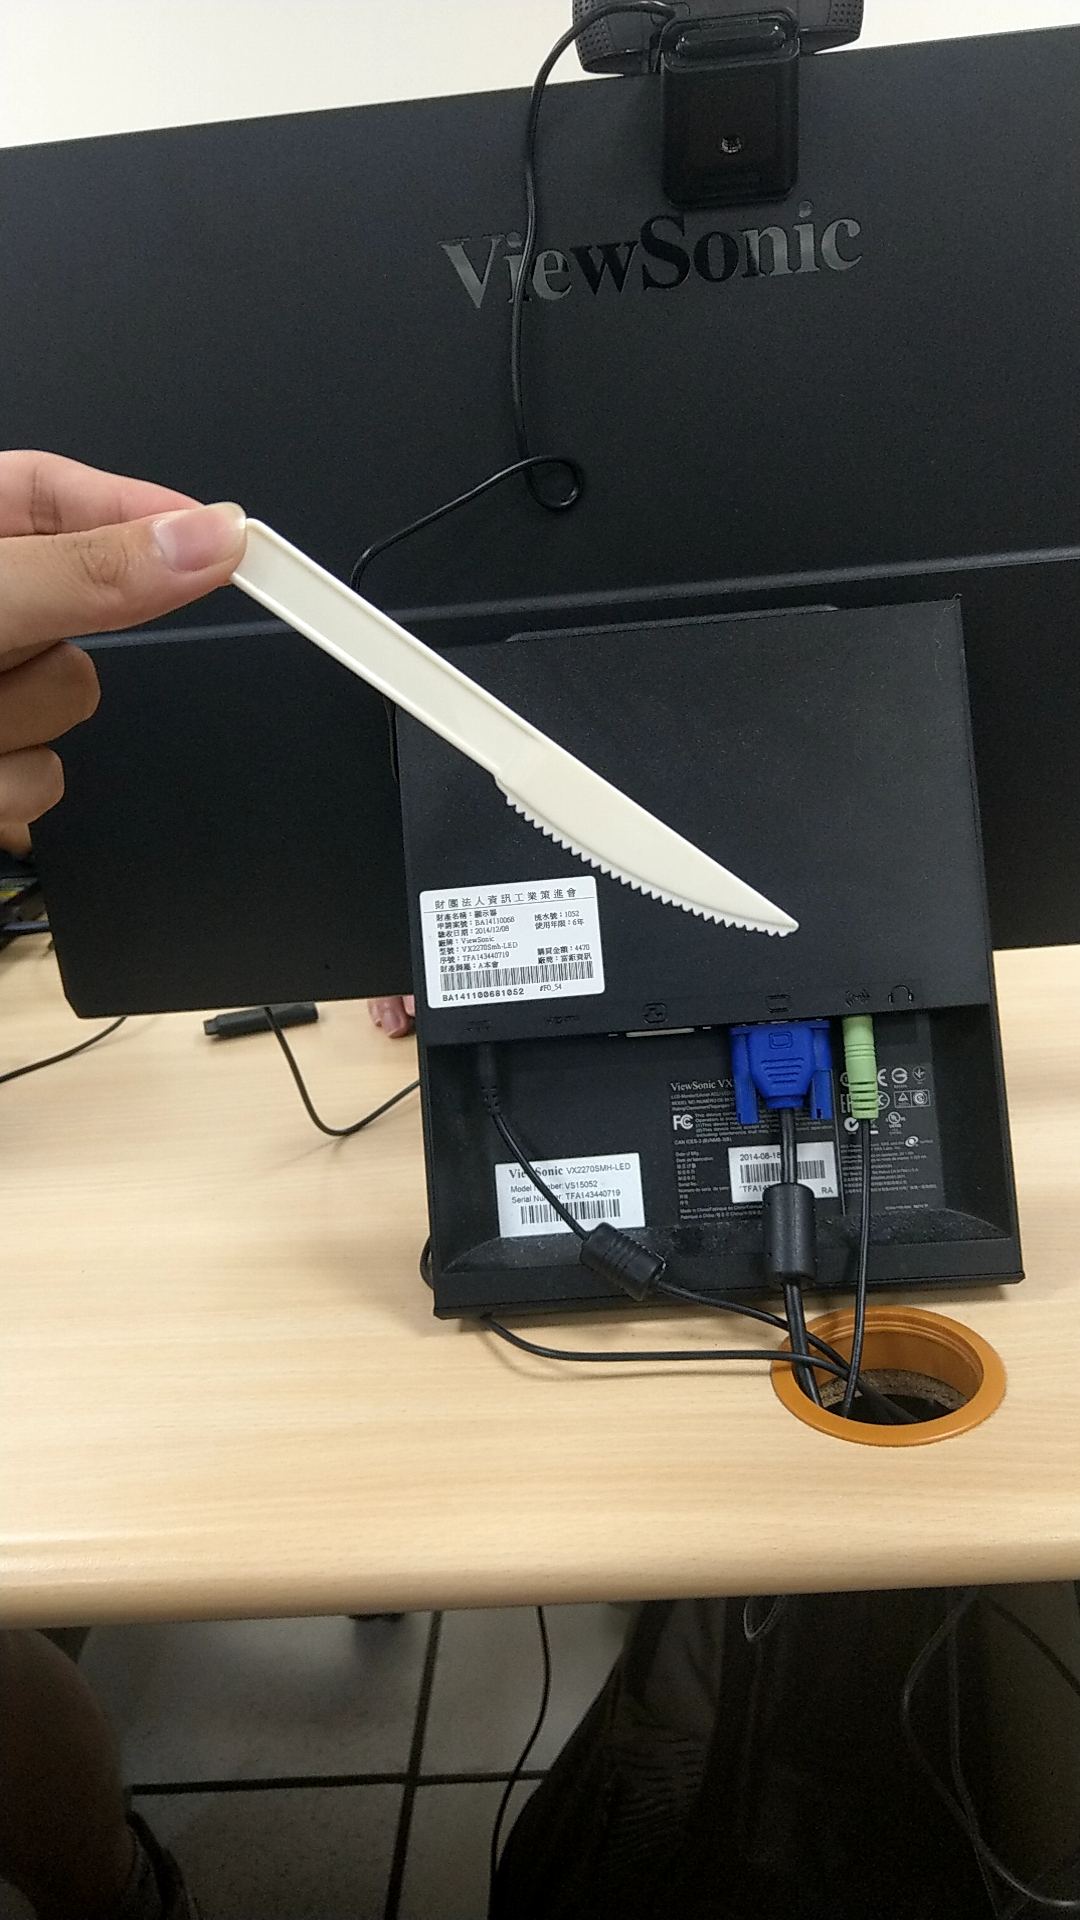knife: (179, 475, 804, 943)
